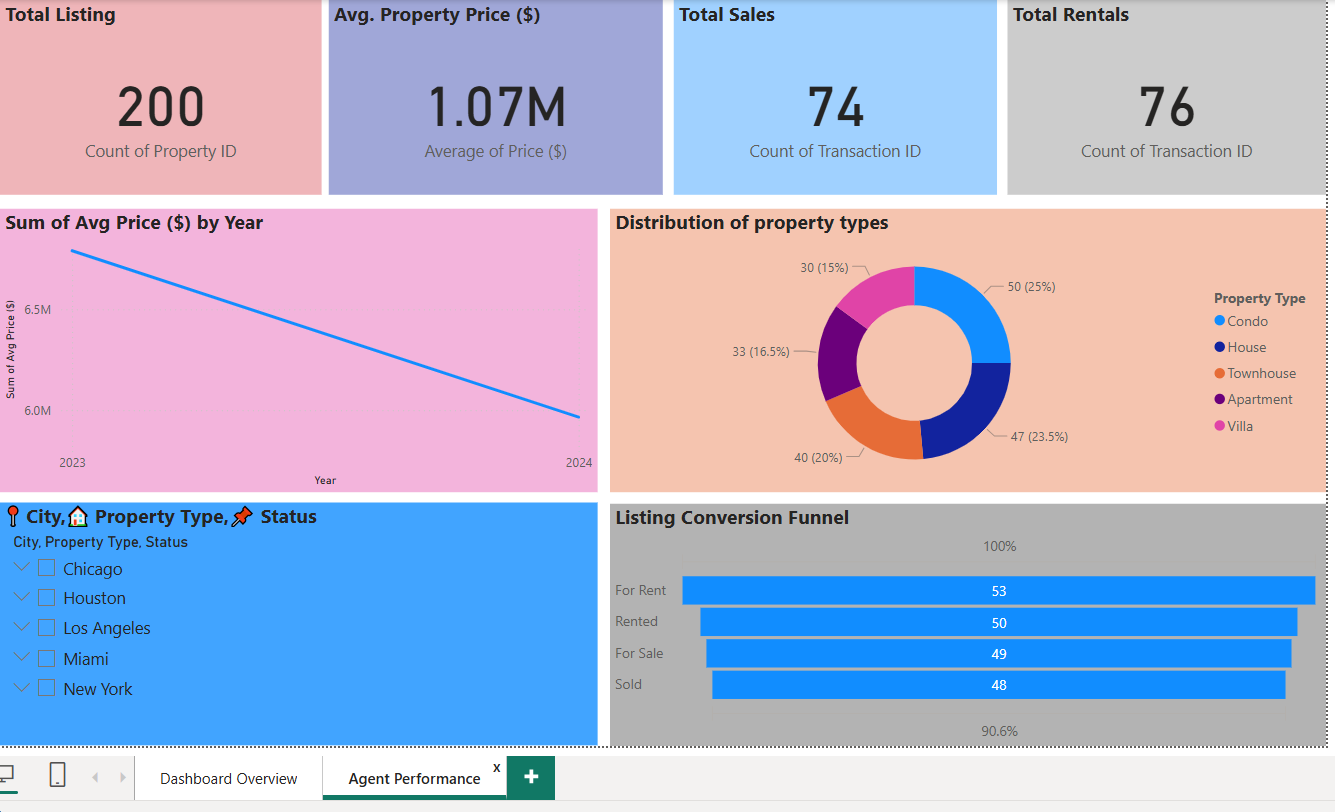

The page's visual inventory and layout, read from the dashboard file:
{"tool":"powerbi","page":{"name":"Agent Performance","canvas":[1280,720],"ordinal":1},"visuals":[{"type":"card","title":"Total Listing","fields":{"Values":["CountNonNull(Property Listings.Property ID)"]},"box":[0,0,310.7,188.2],"z":0},{"type":"card","title":"Avg. Property Price ($)","fields":{"Values":["Avg(Property Listings.Price ($))"]},"box":[316.7,0,322.7,188.2],"z":1},{"type":"card","title":"Total Sales","fields":{"Values":["CountNonNull(Transactions.Transaction ID)"]},"box":[649.9,0,312.2,188.2],"z":2},{"type":"card","title":"Total Rentals","fields":{"Values":["CountNonNull(Transactions.Transaction ID)"]},"box":[972.6,0,307.8,188.2],"z":3},{"type":"lineChart","fields":{"Category":["Market Trends.Date.Variation.Date Hierarchy.Year","Market Trends.Date.Variation.Date Hierarchy.Quarter","Market Trends.Date.Variation.Date Hierarchy.Month","Market Trends.Date.Variation.Date Hierarchy.Day"],"Y":["Sum(Market Trends.Avg Price ($))"]},"box":[0,201.7,576.7,273.4],"z":4},{"type":"donutChart","title":"Distribution of property types","fields":{"Y":["CountNonNull(Property Listings.Property ID)"],"Category":["Property Listings.Property Type"]},"box":[588.6,201.7,691.7,273.4],"z":5},{"type":"slicer","title":"📍 City,🏠 Property Type,📌 Status","fields":{"Values":["Property Listings.City","Property Listings.Property Type","Property Listings.Status"]},"box":[0,485.5,576.7,234.5],"z":6},{"type":"funnel","title":"Listing Conversion Funnel","fields":{"Category":["Property Listings.Status"],"Y":["CountNonNull(Property Listings.Property ID)"]},"box":[589,486,691,234],"z":7}]}

Visuals, with their boxes in screenshot pixels (x1, y1, x2, y2):
"Total Listing" card: locate(3, 3, 323, 197)
"Avg. Property Price ($)" card: locate(329, 3, 661, 197)
"Total Sales" card: locate(672, 3, 993, 197)
"Total Rentals" card: locate(1004, 3, 1320, 197)
lineChart - Market Trends.Date.Variation.Date Hierarchy.Year x Market Trends.Date.Variation.Date Hierarchy.Quarter: locate(3, 211, 597, 492)
"Distribution of property types" donutChart: locate(609, 211, 1320, 492)
"📍 City,🏠 Property Type,📌 Status" slicer: locate(3, 503, 597, 744)
"Listing Conversion Funnel" funnel: locate(609, 503, 1320, 744)
